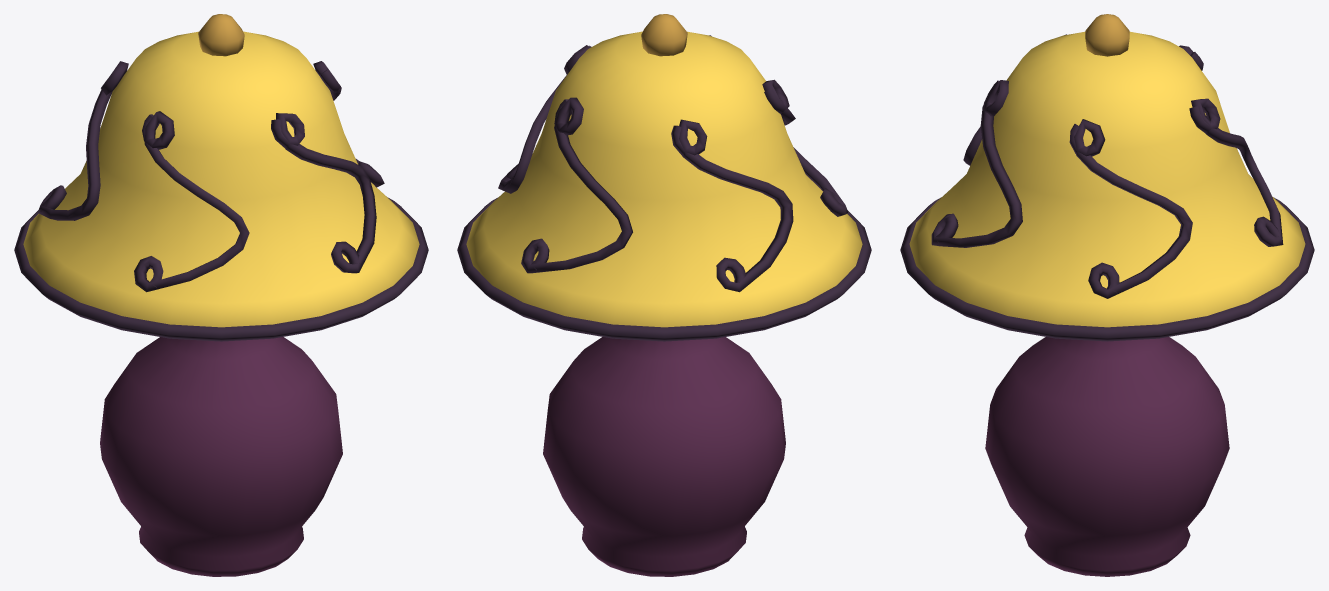
File: table_lamp.glb
3 renders of one model, left to right at view 1: azimuth 30°, elevation 25°; view 2: azimuth 150°, elevation 25°; view 3: azimuth 270°, elevation 25°, orthographic.
Visible parts, largest first — view 1: table_lamp; view 2: table_lamp; view 3: table_lamp.
Part boxes in pixels (x1,y1,x2,y2): table_lamp: (14,14,428,576); table_lamp: (457,14,871,576); table_lamp: (900,14,1314,576).
Bounding box in the file's own units: 0.424 × 0.6 × 0.424.
